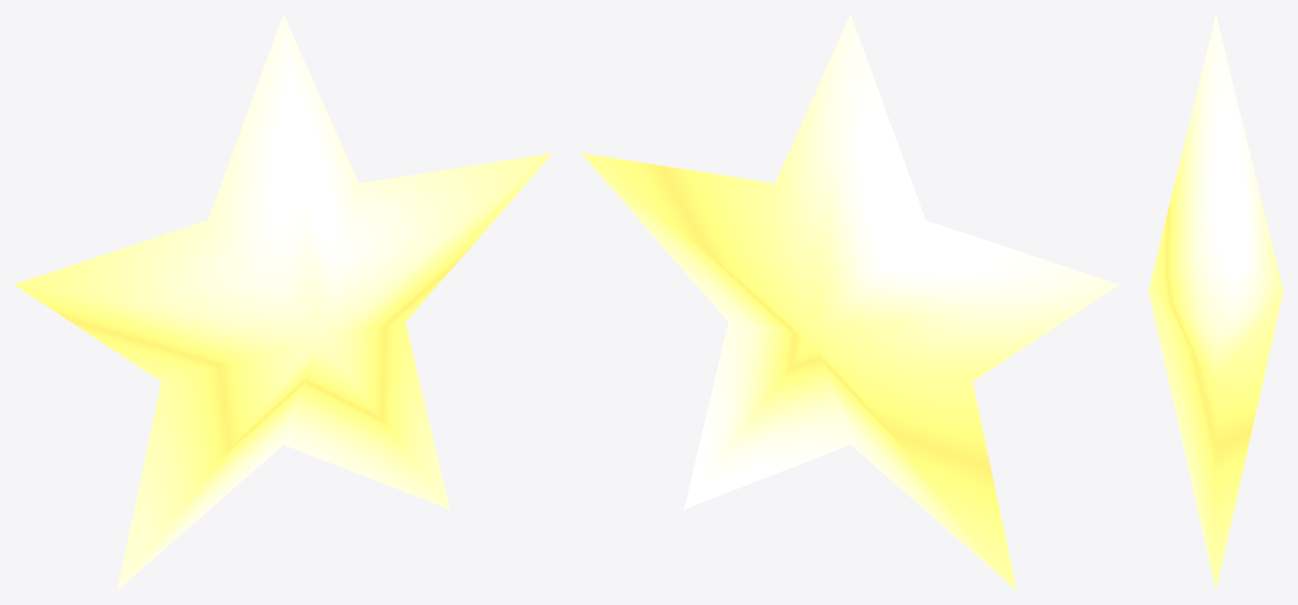
Rendered from star.glb.
3 views of the same model, side by side, from view 1: azimuth 30°, elevation 25°; view 2: azimuth 150°, elevation 25°; view 3: azimuth 270°, elevation 25° (orthographic). The views are drawn at different scales.
Visible parts, largest first — view 1: Circle; view 2: Circle; view 3: Circle.
Part boxes in pixels (left/top/right/bottom): Circle: left=14, top=14, right=552, bottom=590; Circle: left=581, top=14, right=1119, bottom=590; Circle: left=1148, top=15, right=1283, bottom=589.
Size of the model in its own units: 1.05 by 1 by 0.2445.
